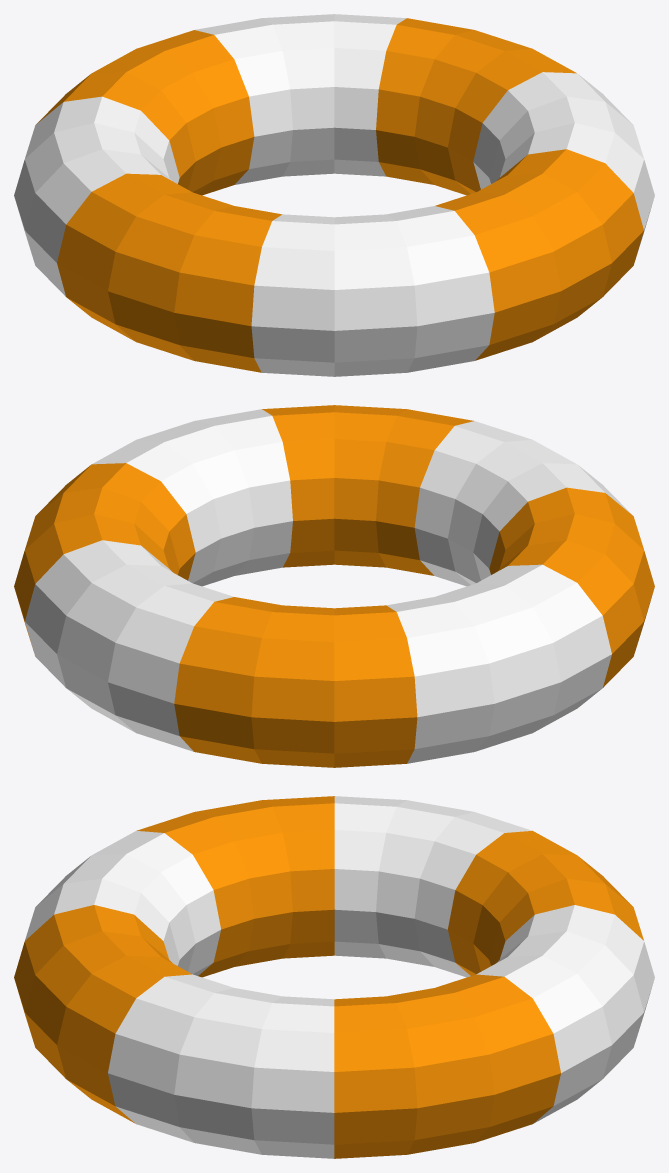
The model's file is Swim Ring.fbx.
3 renders of one model, top to bottom at view 1: azimuth 30°, elevation 25°; view 2: azimuth 150°, elevation 25°; view 3: azimuth 270°, elevation 25°, orthographic.
Parts seen in each view (by area): view 1: Swim Ring; view 2: Swim Ring; view 3: Swim Ring.
Boxes of the visible parts, x1,y1,x2,y2 form: Swim Ring: [14, 14, 654, 376]; Swim Ring: [14, 405, 654, 767]; Swim Ring: [14, 796, 654, 1158].
Bounding box in the file's own units: 184 × 46 × 184.
